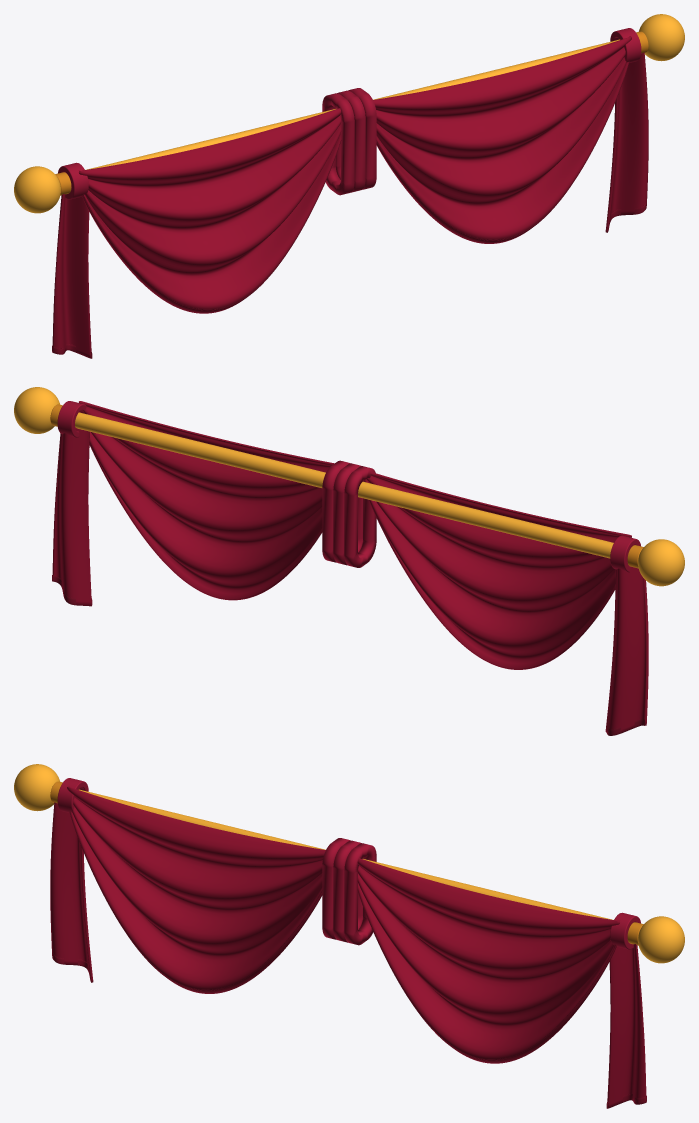
File: UpperCurtain.glb
3 renders of one model, top to bottom at view 1: azimuth 30°, elevation 25°; view 2: azimuth 150°, elevation 25°; view 3: azimuth 330°, elevation 25°, orthographic.
Visible parts, largest first — view 1: LeftDrapedSwag, RightDrapedSwag, LeftShortHangingTail, RightShortHangingTail, GoldSupportRod, CenterGatherLoop_1, LeftGoldBallFinial, RightGoldBallFinial, CenterGatherLoop_2, CenterGatherLoop_3, LeftFabricEndSleeve, RightFabricEndSleeve; view 2: LeftDrapedSwag, RightDrapedSwag, GoldSupportRod, LeftShortHangingTail, RightShortHangingTail, CenterGatherLoop_1, LeftGoldBallFinial, RightGoldBallFinial, CenterGatherLoop_2, CenterGatherLoop_3, RightFabricEndSleeve, LeftFabricEndSleeve; view 3: RightDrapedSwag, LeftDrapedSwag, RightShortHangingTail, LeftShortHangingTail, GoldSupportRod, CenterGatherLoop_3, RightGoldBallFinial, LeftGoldBallFinial, CenterGatherLoop_2, CenterGatherLoop_1, RightFabricEndSleeve, LeftFabricEndSleeve.
Part boxes in pixels (x1,y1,x2,y2): LeftDrapedSwag: [79, 108, 341, 313]; RightDrapedSwag: [373, 36, 631, 243]; LeftShortHangingTail: [52, 194, 91, 358]; RightShortHangingTail: [605, 52, 648, 232]; GoldSupportRod: [86, 39, 619, 169]; CenterGatherLoop_1: [322, 93, 354, 195]; LeftGoldBallFinial: [14, 166, 60, 213]; RightGoldBallFinial: [639, 14, 684, 61]; CenterGatherLoop_2: [336, 90, 365, 192]; CenterGatherLoop_3: [348, 88, 376, 189]; LeftFabricEndSleeve: [58, 162, 88, 199]; RightFabricEndSleeve: [610, 28, 641, 62]; LeftDrapedSwag: [364, 472, 631, 669]; RightDrapedSwag: [79, 401, 334, 600]; GoldSupportRod: [75, 412, 613, 558]; LeftShortHangingTail: [605, 566, 648, 735]; RightShortHangingTail: [52, 427, 91, 606]; CenterGatherLoop_1: [344, 466, 376, 567]; LeftGoldBallFinial: [638, 539, 684, 586]; RightGoldBallFinial: [14, 387, 59, 433]; CenterGatherLoop_2: [333, 463, 362, 565]; CenterGatherLoop_3: [322, 460, 350, 562]; RightFabricEndSleeve: [57, 401, 86, 437]; LeftFabricEndSleeve: [610, 535, 640, 572]; RightDrapedSwag: [357, 858, 619, 1063]; LeftDrapedSwag: [67, 786, 325, 993]; RightShortHangingTail: [607, 944, 646, 1108]; LeftShortHangingTail: [50, 802, 93, 982]; GoldSupportRod: [79, 789, 612, 919]; CenterGatherLoop_3: [344, 843, 376, 945]; RightGoldBallFinial: [638, 916, 684, 963]; LeftGoldBallFinial: [14, 764, 59, 811]; CenterGatherLoop_2: [333, 840, 362, 942]; CenterGatherLoop_1: [322, 838, 350, 939]; RightFabricEndSleeve: [610, 912, 640, 949]; LeftFabricEndSleeve: [57, 778, 88, 812].
Bounding box in the file's own units: 3.13 × 0.9155 × 0.2239.
Materials: 7 (7 with a texture image).
